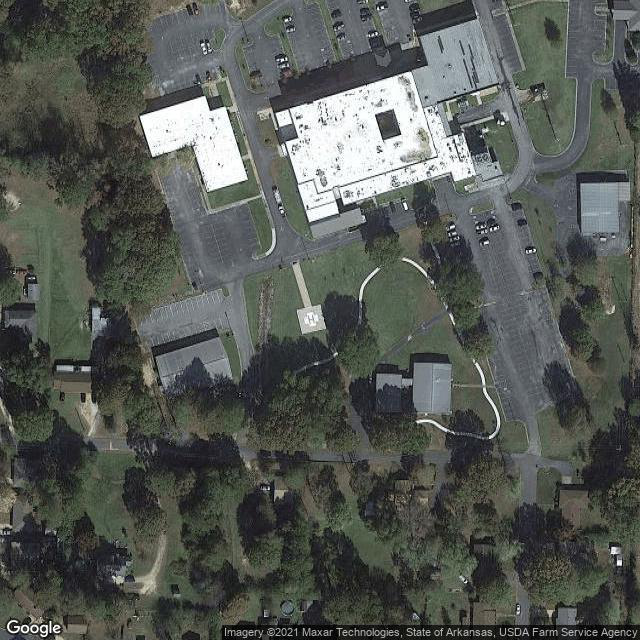Helipad: (299, 309, 323, 329)
